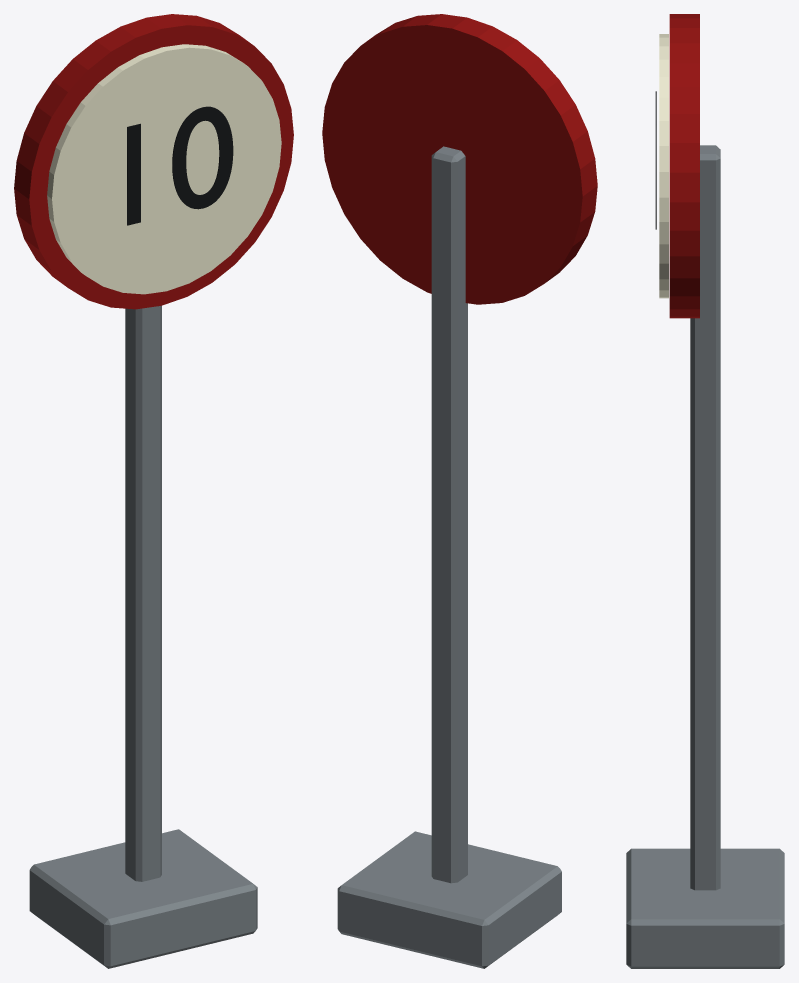
The model's file is SpeedLimitSign.fbx.
3 renders of one model, left to right at view 1: azimuth 30°, elevation 25°; view 2: azimuth 150°, elevation 25°; view 3: azimuth 270°, elevation 25°, orthographic.
Parts seen in each view (by area): view 1: SpeedLimitSign; view 2: SpeedLimitSign; view 3: SpeedLimitSign.
Boxes of the visible parts, box(x1,y1,x2,y2) form: SpeedLimitSign: box(14, 14, 293, 968); SpeedLimitSign: box(322, 14, 597, 968); SpeedLimitSign: box(626, 14, 784, 968).
Bounding box in the file's own units: 50 × 164 × 26.
Materials: 1 (1 with a texture image).
